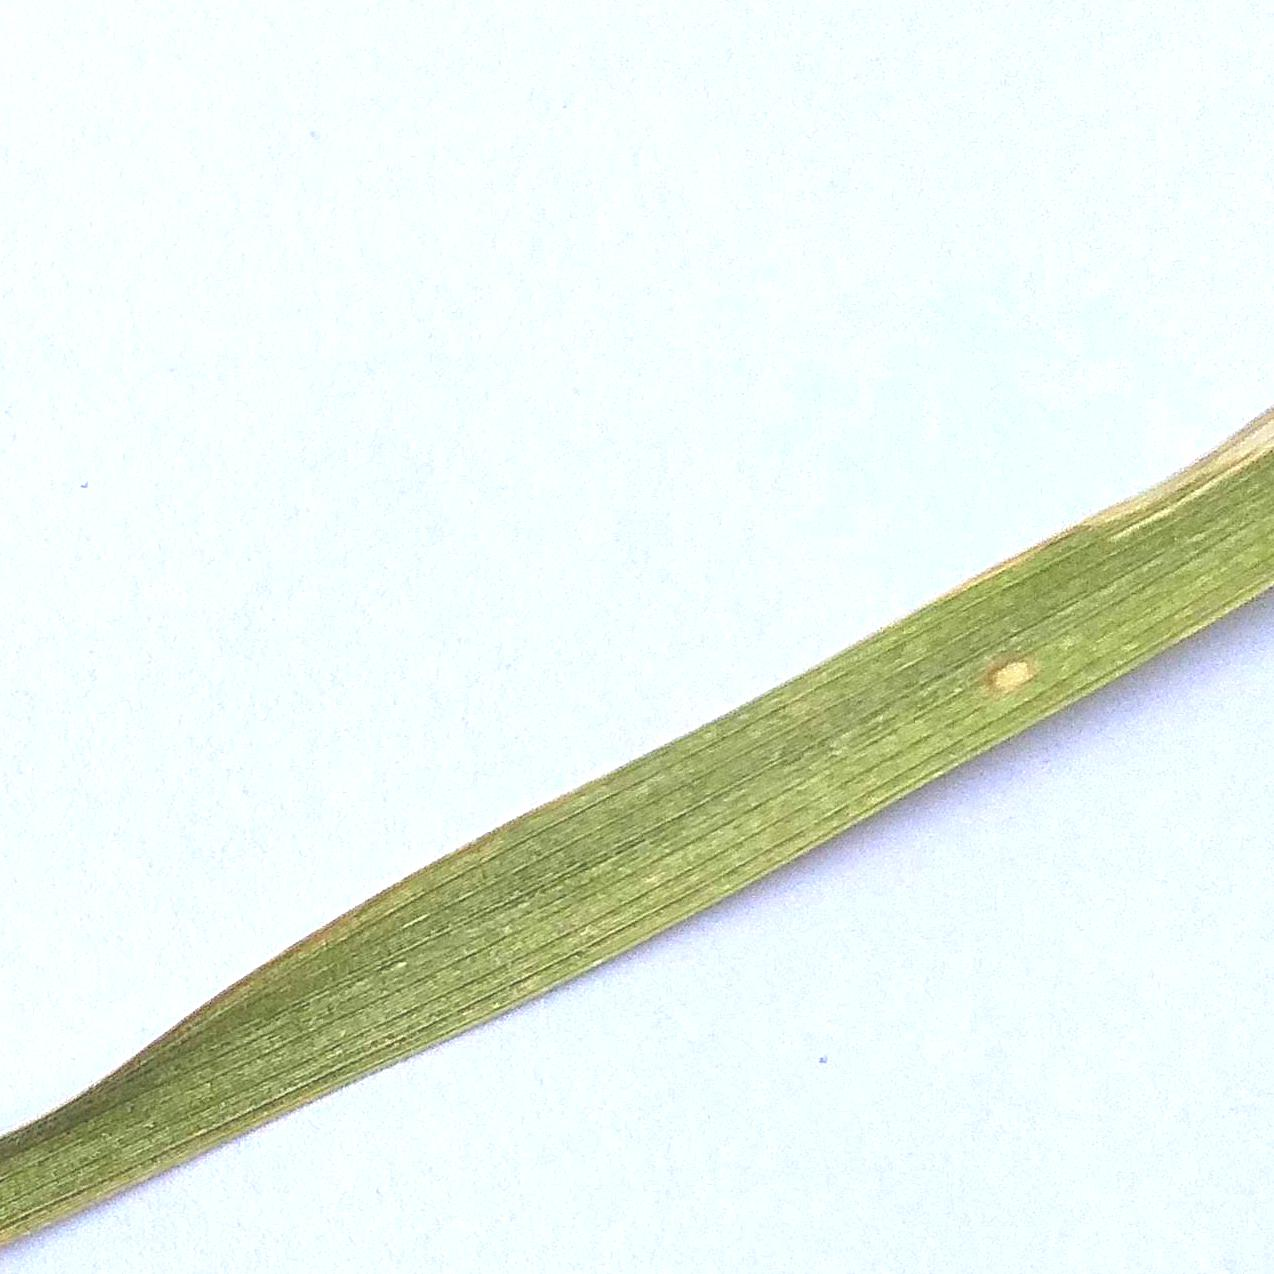1 RiceBlast: (966, 621, 1043, 701)
